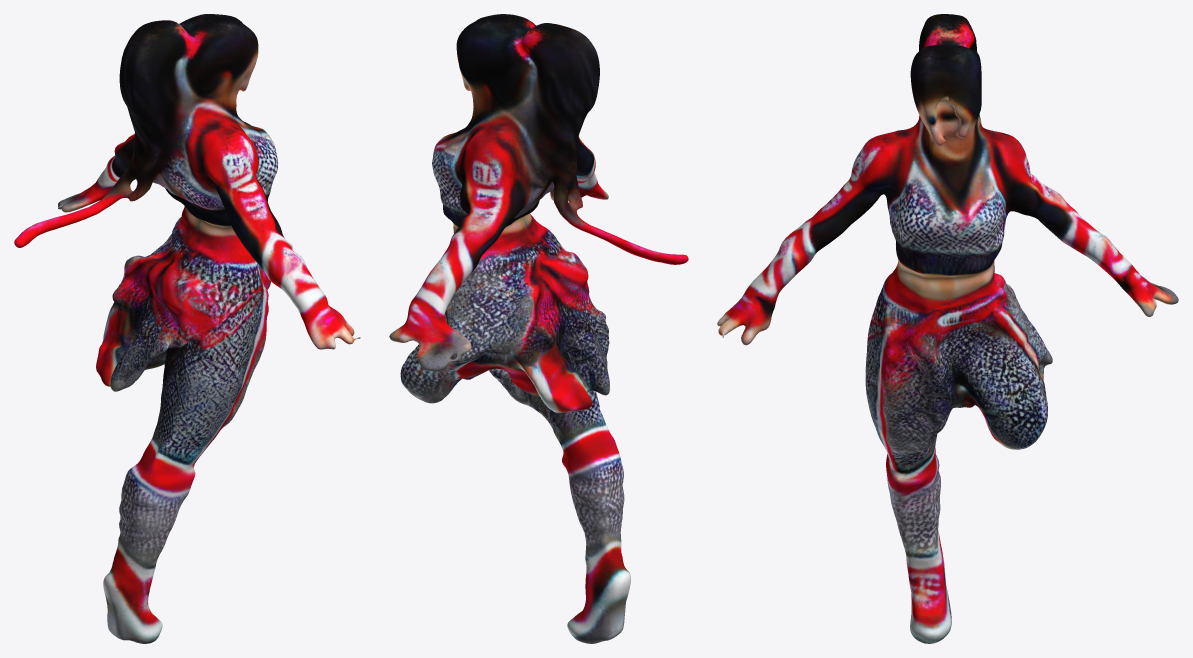
The model's file is 2bbb9a2bcc26_Female_ninja_warrior_doing_high_.glb.
The picture shows the model from 3 angles, left to right: view 1: azimuth 30°, elevation 25°; view 2: azimuth 150°, elevation 25°; view 3: azimuth 270°, elevation 25°; orthographic projection. The views are drawn at different scales.
Parts seen in each view (by area): view 1: geometry_0; view 2: geometry_0; view 3: geometry_0.
Part boxes in pixels (x1,y1,x2,y2): geometry_0: (14, 14, 360, 643); geometry_0: (389, 14, 688, 643); geometry_0: (717, 14, 1178, 643).
Bounding box in the file's own units: 0.2568 × 0.594 × 0.3912.
Materials: 1 (1 with a texture image).
